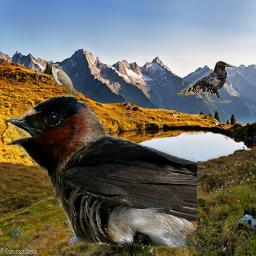Crow: (177, 61, 233, 103)
Cuckoo: (48, 62, 76, 115)
Swallow: (2, 95, 197, 249)
